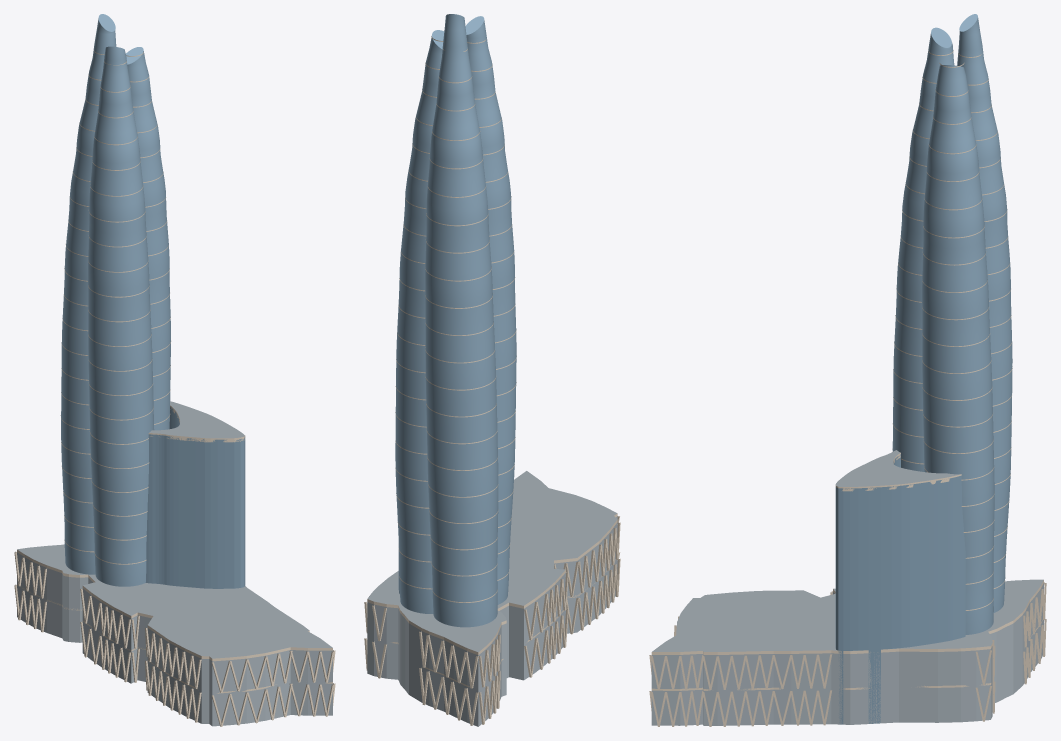
The model's file is sydney-crown-sydney.detail.glb.
The picture shows the model from 3 angles, left to right: view 1: azimuth 30°, elevation 25°; view 2: azimuth 150°, elevation 25°; view 3: azimuth 270°, elevation 25°; orthographic projection. The views are drawn at different scales.
Visible parts, largest first — view 1: Crown Sydney; view 2: Crown Sydney; view 3: Crown Sydney.
Part boxes in pixels (left/top/right/bottom): Crown Sydney: left=14, top=14, right=335, bottom=726; Crown Sydney: left=364, top=14, right=620, bottom=726; Crown Sydney: left=649, top=14, right=1046, bottom=726.
Size of the model in its own units: 65.22 by 271 by 146.
